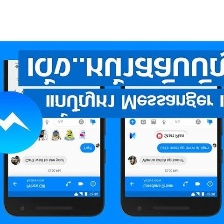phone: (0, 39, 105, 219), (119, 42, 223, 218)
